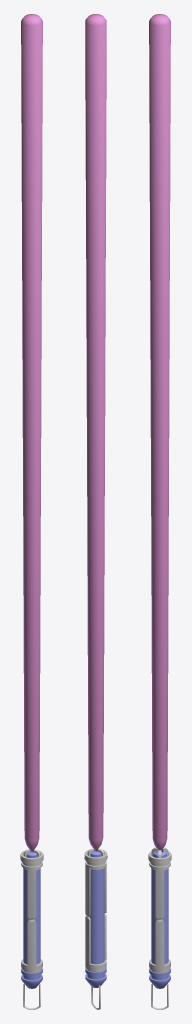
Rendered from PhotonSword.fbx.
3 views of the same model, side by side, from view 1: azimuth 90°, elevation 25°; view 2: azimuth 210°, elevation 25°; view 3: azimuth 270°, elevation 25° (orthographic).
Visible parts, largest first — view 1: Beam, Attach, Body; view 2: Beam, Body, Attach; view 3: Beam, Attach, Body.
Part boxes in pixels (x1,y1,x2,y2): Beam: [21, 14, 42, 851]; Attach: [20, 849, 43, 1009]; Body: [21, 850, 42, 988]; Beam: [85, 14, 106, 850]; Body: [85, 849, 106, 987]; Attach: [84, 848, 107, 1009]; Beam: [149, 14, 170, 850]; Attach: [148, 847, 171, 1009]; Body: [149, 850, 170, 988].
Size of the model in its own units: 44.76 by 2107 by 44.76.
